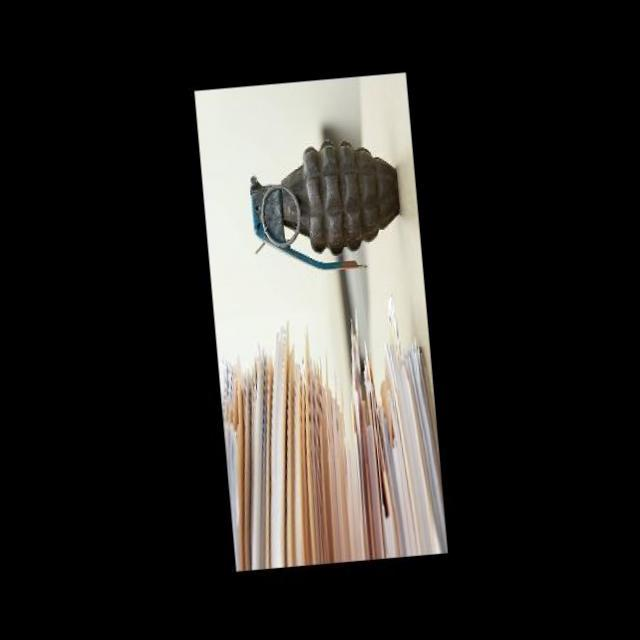grenade: (235, 134, 407, 278)
